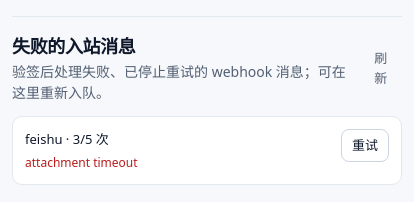
Test: InboundDeadJobs › lists dead jobs and retries one
The width and height of the screenshot is (414, 202).
Click the button "重试" at (365, 146), box [341,130,389,162]
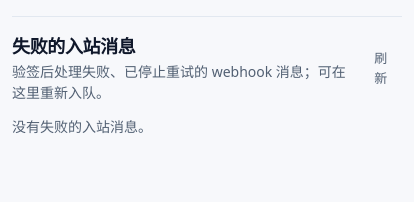
Expected: the text "没有失败的入站消息。" is shown, [12,118,152,136]
